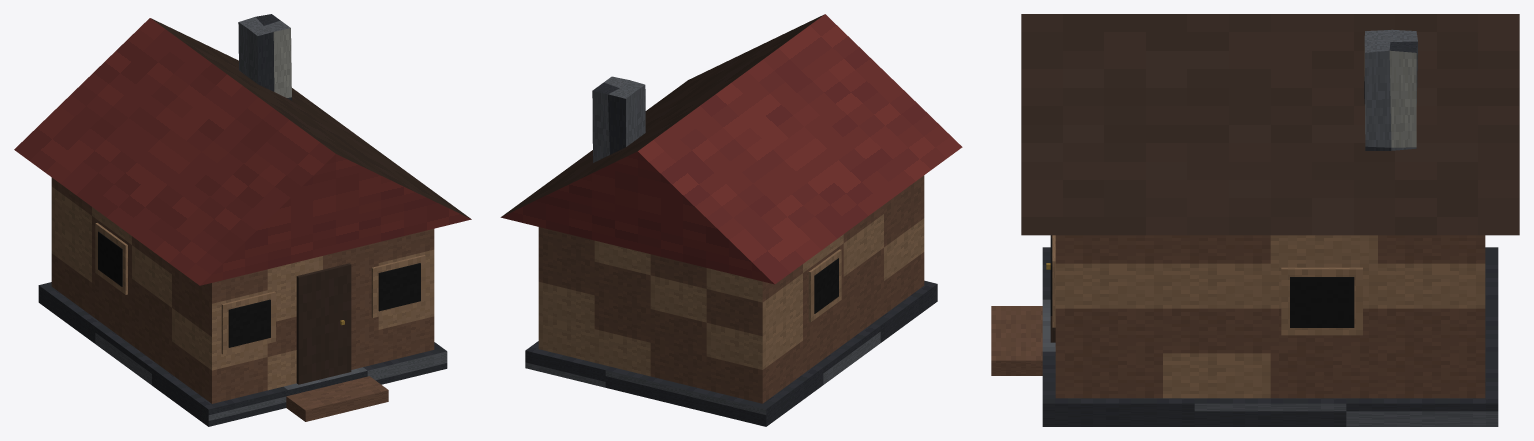
The model's file is cabin.glb.
3 renders of one model, left to right at view 1: azimuth 30°, elevation 25°; view 2: azimuth 150°, elevation 25°; view 3: azimuth 270°, elevation 25°, orthographic. The views are drawn at different scales.
Visible parts, largest first — view 1: cabin; view 2: cabin; view 3: cabin.
Boxes of the visible parts, <box> form: cabin: <box>14,14,471,426</box>; cabin: <box>500,14,962,426</box>; cabin: <box>991,14,1519,426</box>.
Size of the model in its own units: 4.9 by 4.52 by 6.15.
1 material, 1 textured.
